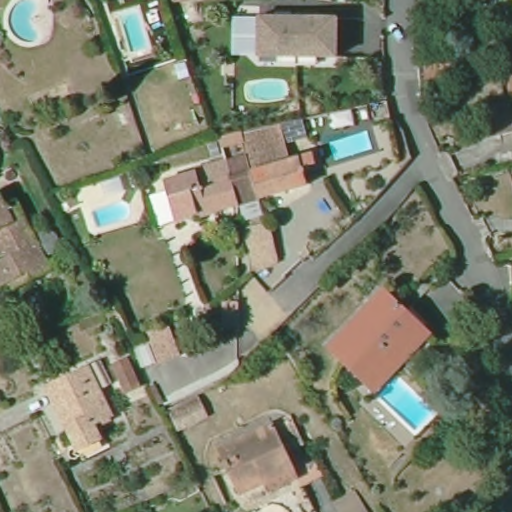pool: (374, 377, 438, 435), (108, 7, 157, 60), (1, 1, 52, 48), (320, 127, 378, 165), (240, 73, 292, 107), (89, 198, 136, 233)
